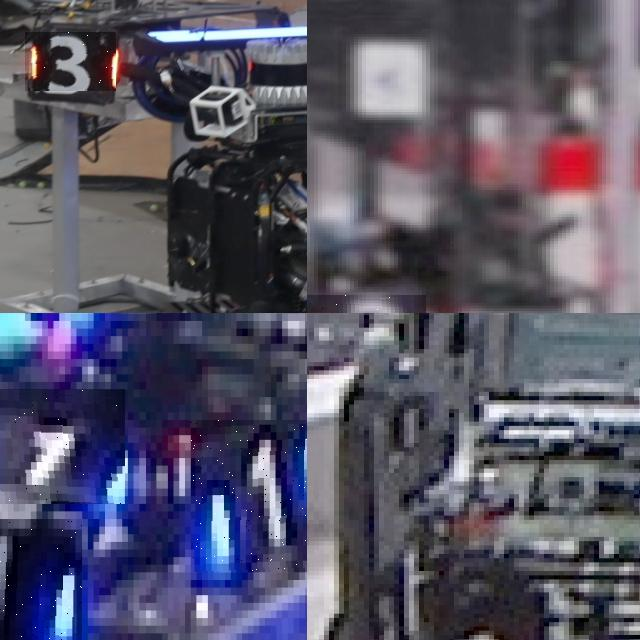B1: (190, 419, 307, 572), (0, 389, 124, 503), (0, 519, 82, 640)
R2: (307, 294, 426, 313)
R3: (25, 32, 116, 91)
